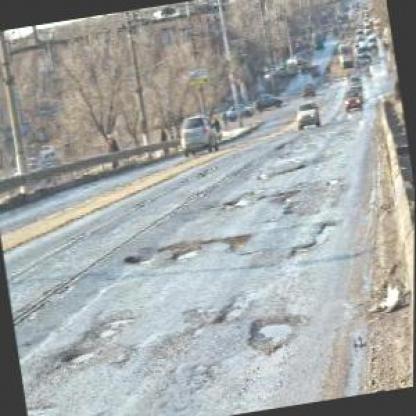pothole: (54, 310, 140, 364), (244, 308, 308, 356), (283, 218, 342, 259), (211, 298, 248, 327), (157, 233, 208, 252), (218, 188, 255, 214), (223, 229, 255, 252), (169, 243, 204, 262), (273, 186, 304, 206), (122, 250, 144, 266), (326, 173, 342, 186), (255, 169, 269, 180)
